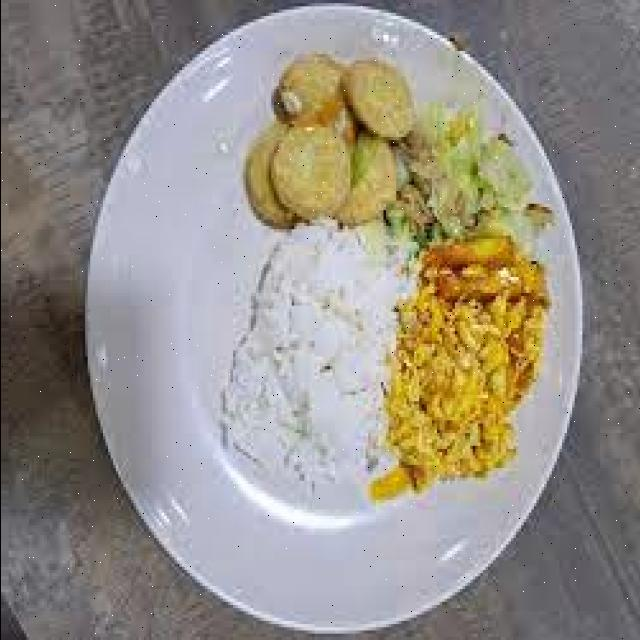Egg: (388, 239, 548, 487)
Non green veg: (388, 105, 548, 245)
Rice: (222, 226, 416, 509)
Tofu: (247, 54, 416, 226)
